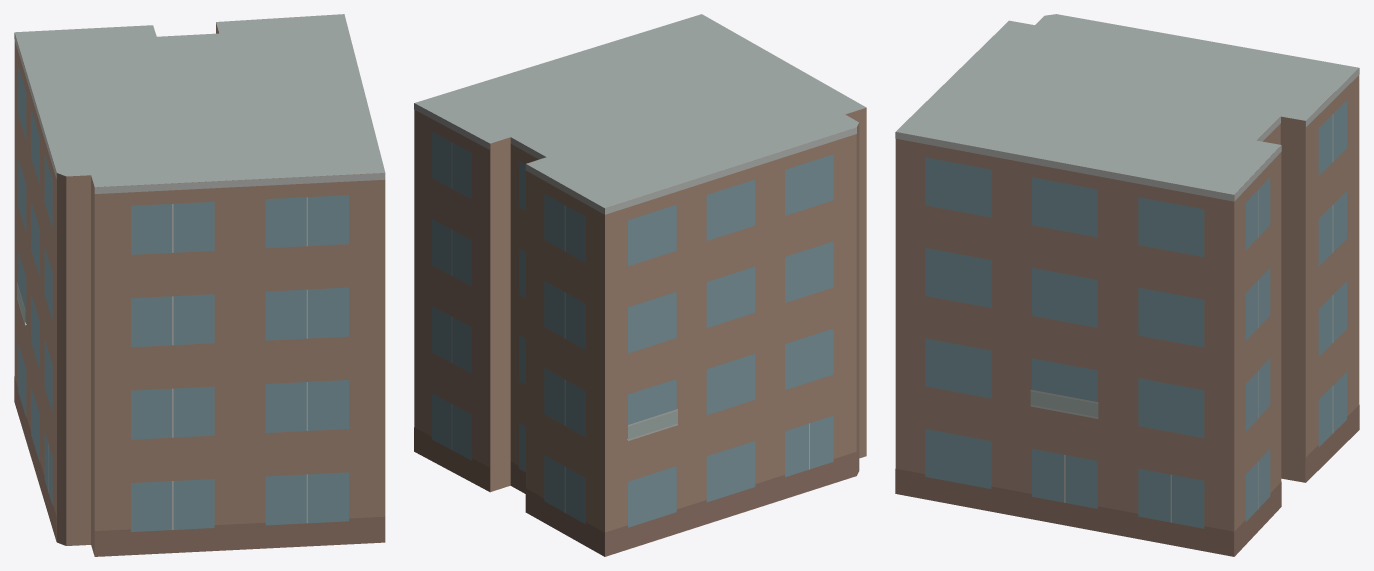
Rendered from survey-upis-32524514.glb.
3 views of the same model, side by side, from view 1: azimuth 30°, elevation 25°; view 2: azimuth 150°, elevation 25°; view 3: azimuth 270°, elevation 25° (orthographic). The views are drawn at different scales.
Visible parts, largest first — view 1: survey-upis-32524514.tmp; view 2: survey-upis-32524514.tmp; view 3: survey-upis-32524514.tmp.
Part boxes in pixels (box(x1,y1,x2,y2)): survey-upis-32524514.tmp: box(14, 14, 385, 556); survey-upis-32524514.tmp: box(414, 14, 866, 556); survey-upis-32524514.tmp: box(895, 14, 1359, 556).
Size of the model in its own units: 14.04 by 13.09 by 15.22.
